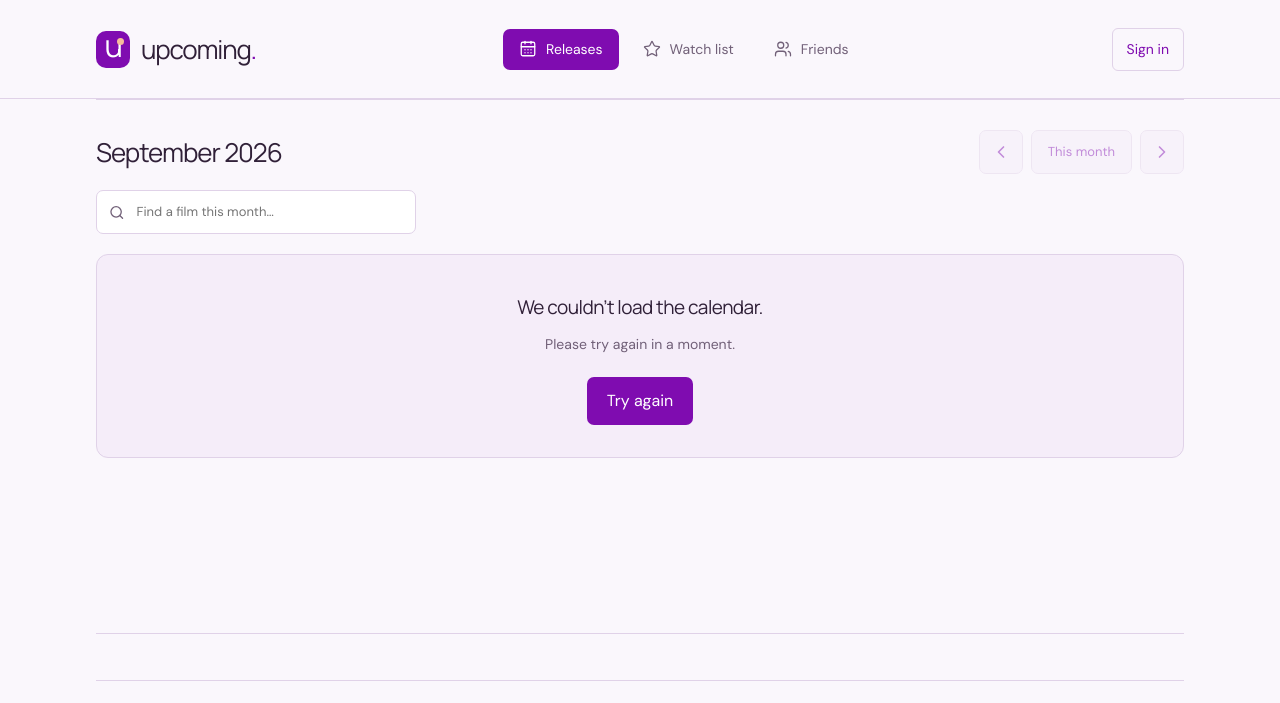
Test: release calendar › renders an error and retries instead of claiming there are no releases
The image size is (1280, 703).
Expected: the message "We couldn’t load the calendar. Please try again in a moment. Try again" is shown, [96, 254, 1184, 458]
Click the button "Try again": (640, 401) [587, 377, 693, 425]
(page scrolled)
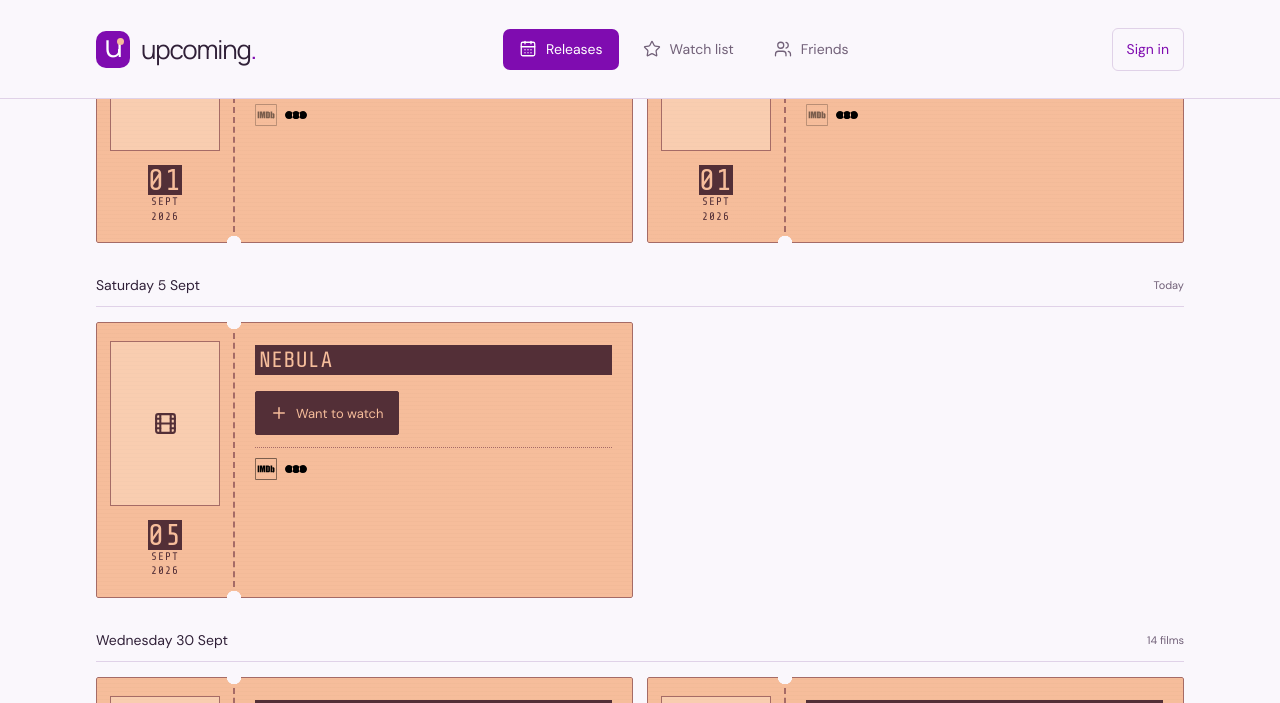
Now the heading "Nebula" is shown, box [255, 345, 612, 375]
